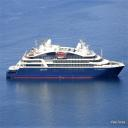cruises: (6, 36, 127, 80)
